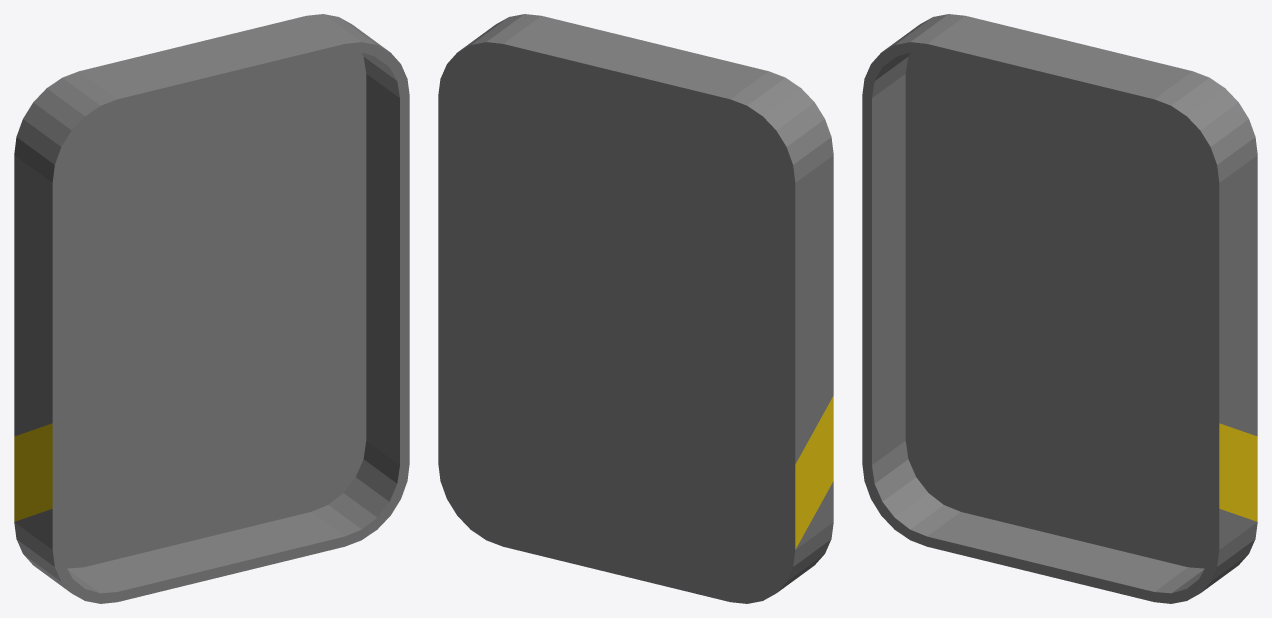
The model's file is lift_link.dae.
3 renders of one model, left to right at view 1: azimuth 30°, elevation 25°; view 2: azimuth 150°, elevation 25°; view 3: azimuth 330°, elevation 25°, orthographic.
Visible parts, largest first — view 1: chassis_link_001; view 2: chassis_link_001; view 3: chassis_link_001.
Boxes of the visible parts, bbox=[...] form: chassis_link_001: bbox=[14, 14, 409, 603]; chassis_link_001: bbox=[438, 14, 833, 603]; chassis_link_001: bbox=[862, 14, 1257, 603].
Size of the model in its own units: 0.55 by 0.1025 by 0.74.
